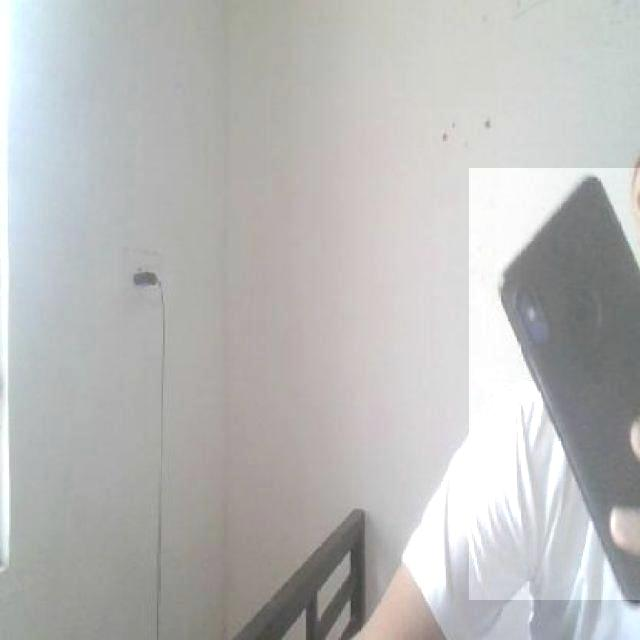phone: (469, 168, 640, 601)
